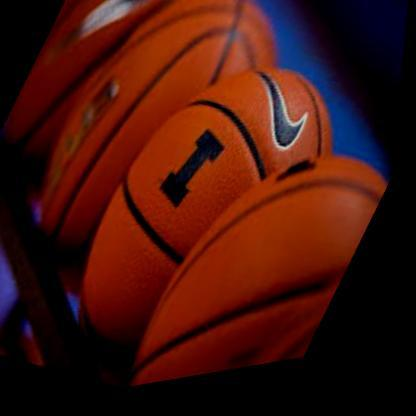basketball: (41, 24, 369, 406), (4, 0, 310, 318), (123, 113, 402, 395), (0, 0, 245, 228)
